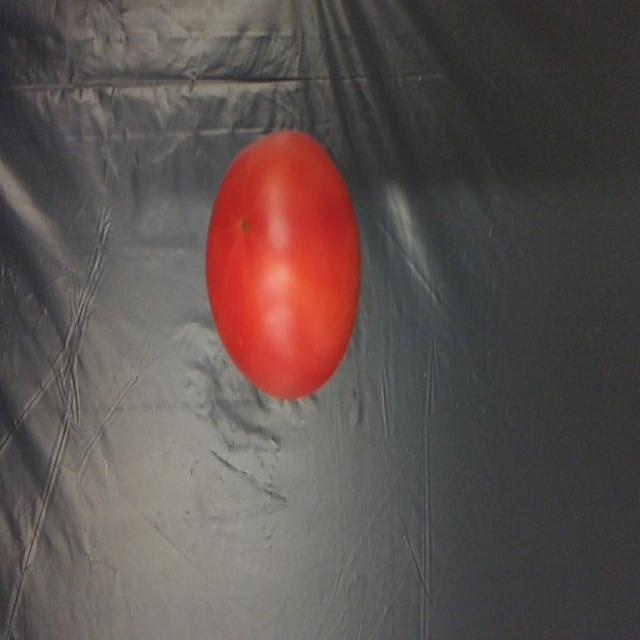kirmizi: (194, 124, 370, 417)
